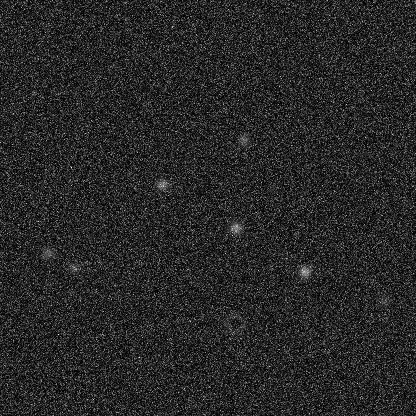Ring: (222, 311, 246, 335)
Spot: (154, 176, 170, 192), (236, 132, 252, 148), (375, 292, 391, 308), (296, 264, 312, 280), (65, 259, 81, 275), (227, 219, 243, 235), (40, 245, 56, 261)
